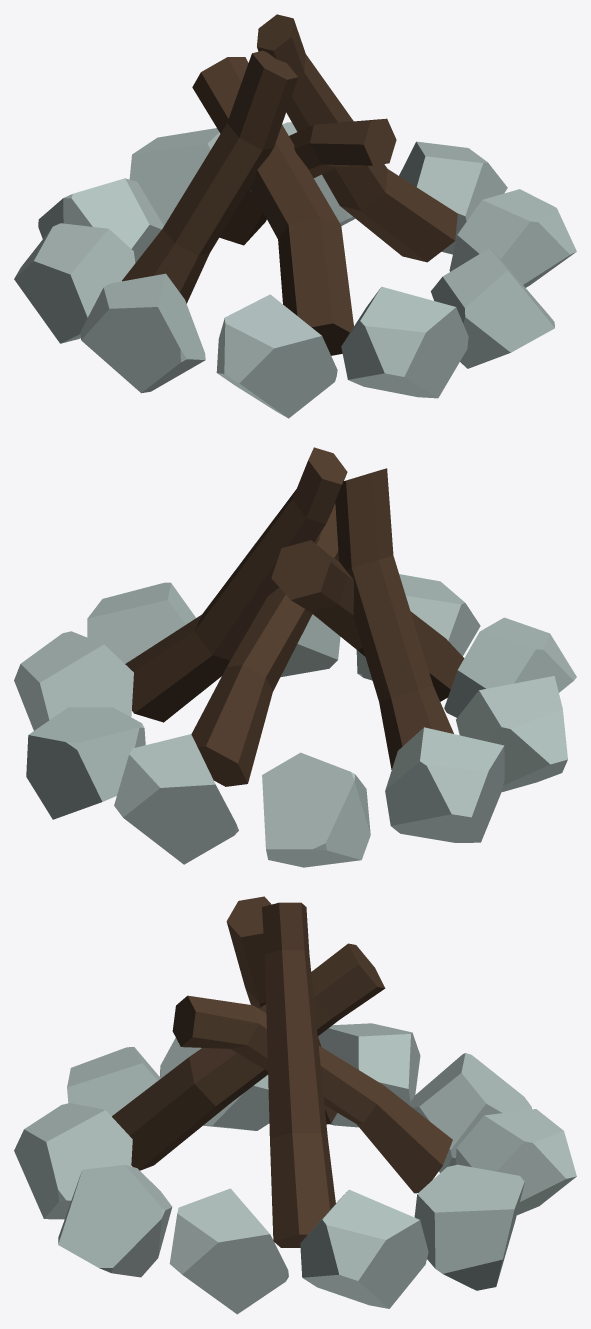
The model's file is Fire_Camp.fbx.
3 renders of one model, top to bottom at view 1: azimuth 30°, elevation 25°; view 2: azimuth 150°, elevation 25°; view 3: azimuth 270°, elevation 25°, orthographic. The views are drawn at different scales.
Parts seen in each view (by area): view 1: Fire_camp; view 2: Fire_camp; view 3: Fire_camp.
Part boxes in pixels (bbox=[...]): Fire_camp: bbox=[14, 14, 576, 418]; Fire_camp: bbox=[14, 447, 576, 867]; Fire_camp: bbox=[14, 896, 576, 1314].
Size of the model in its own units: 61.46 by 39.3 by 62.57.
